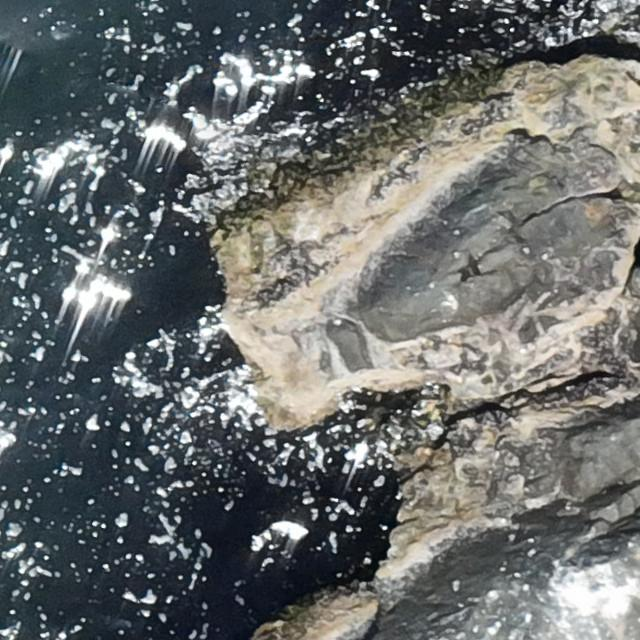umineko: (468, 246, 510, 278)
